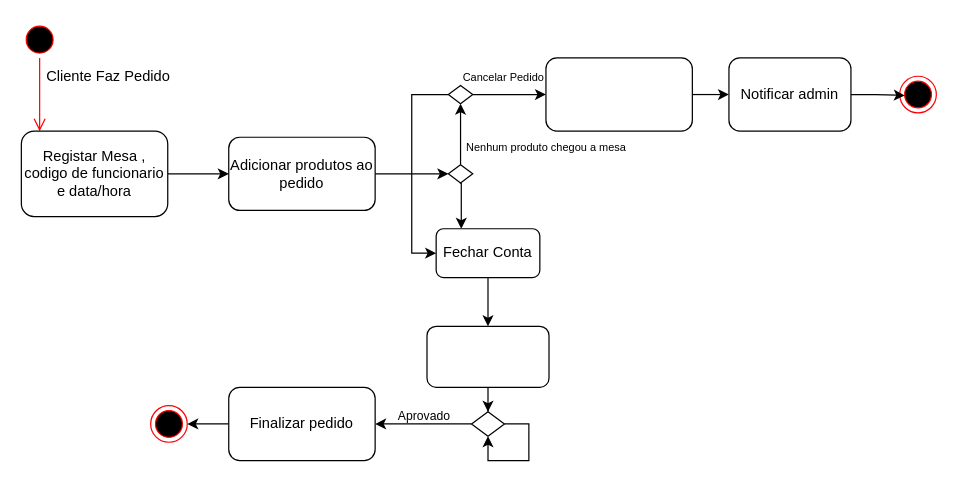
This 958x492 diagram has some shape labels left out. The shapes that lost their labels are listed below. From the top down, each one's centre as x and y in pixels, then its label:
the point at 618,94: Pedido cancelamento produto
the point at 487,356: Registar dados no sistema
